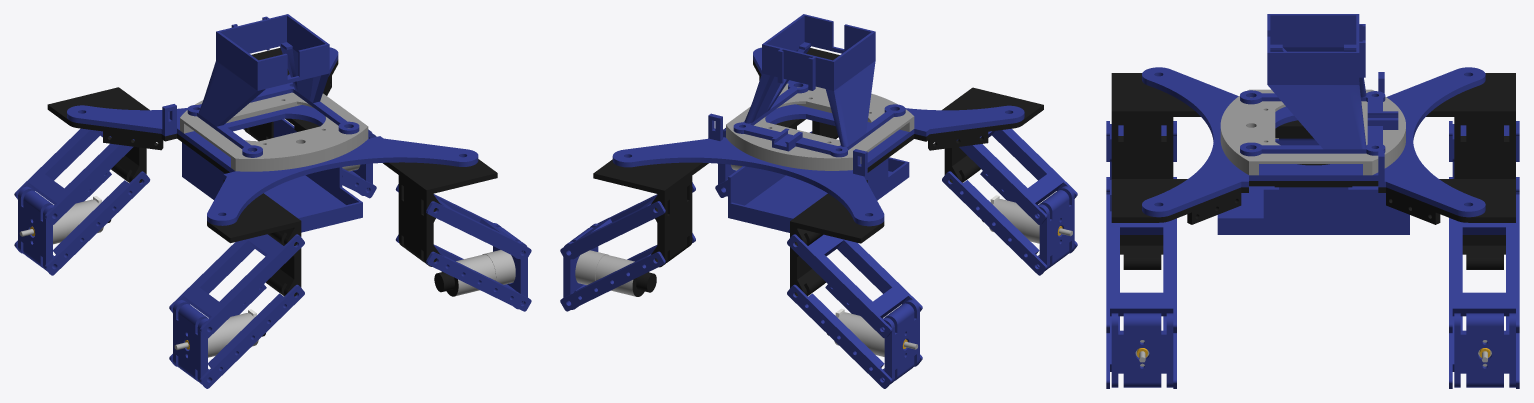
The picture shows the model from 3 angles, left to right: view 1: azimuth 30°, elevation 25°; view 2: azimuth 150°, elevation 25°; view 3: azimuth 270°, elevation 25°; orthographic projection. The views are drawn at different scales.
Parts seen in each view (by area): view 1: base_link; view 2: base_link; view 3: base_link.
Boxes of the visible parts, box(x1,y1,x2,y2) form: base_link: box(14, 14, 531, 388); base_link: box(560, 14, 1077, 388); base_link: box(1106, 14, 1519, 388).
Bounding box in the file's own units: 0.29 × 0.2685 × 0.1932.
